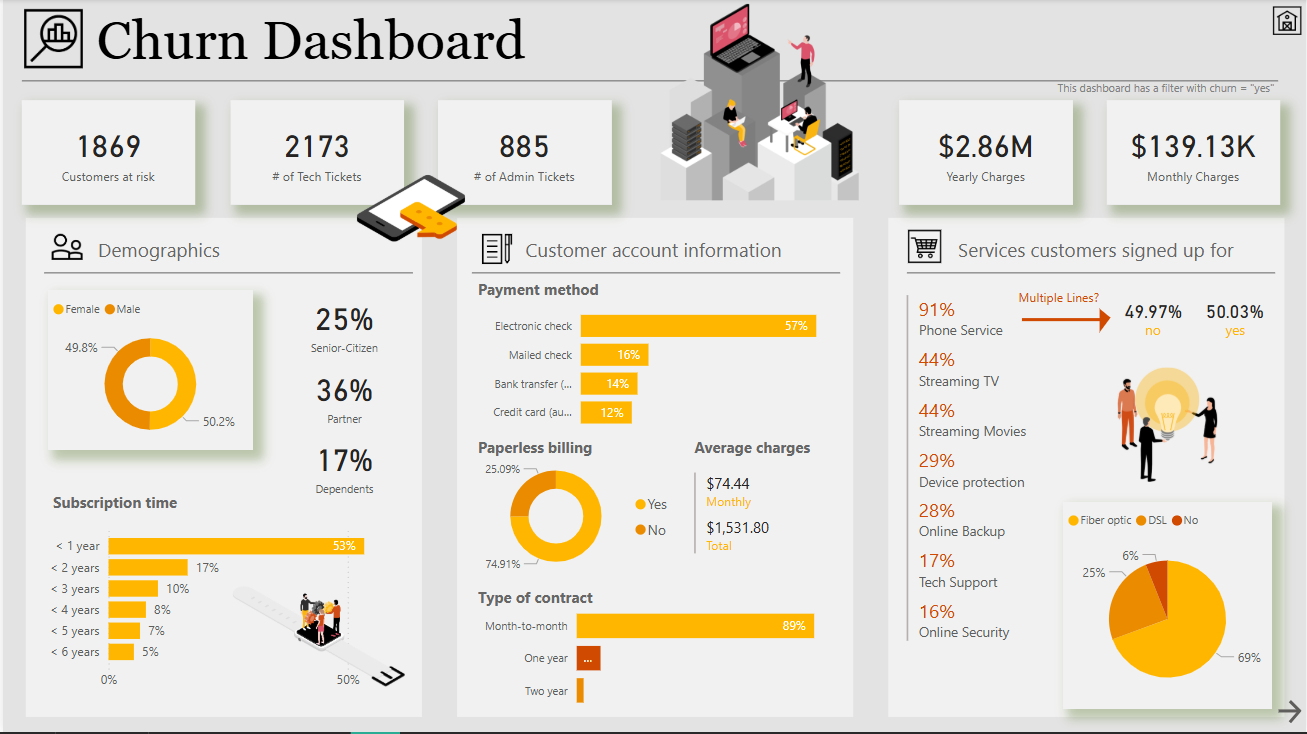

This screenshot's page, from the dashboard's own definition file:
{"tool":"powerbi","page":{"name":"Churn","canvas":[1280,720],"ordinal":1},"visuals":[{"type":"textbox","box":[87.7,4.9,1173.8,75],"z":0},{"type":"basicShape","box":[8.7,60.7,1253,40.5],"z":1000},{"type":"basicShape","box":[18.3,210,396.8,499.9],"z":2000},{"type":"card","fields":{"Values":["CountNonNull(churn.customerID)"]},"box":[18.5,99.4,170,102.3],"z":3000},{"type":"basicShape","box":[441.6,210,396.8,499.9],"z":4000},{"type":"basicShape","box":[864.9,210,396.8,499.9],"z":5000},{"type":"textbox","box":[508.5,228.6,314.9,35.6],"z":6000},{"type":"basicShape","box":[450.7,248.9,381.4,39.5],"z":7000},{"type":"image","box":[461.3,226.3,47.2,39.5],"z":8000},{"type":"textbox","box":[932.7,228.6,314.9,35.6],"z":9000},{"type":"basicShape","box":[877.4,248.9,381.4,39.5],"z":10000},{"type":"textbox","box":[88,228.6,314.9,35.6],"z":11000},{"type":"basicShape","box":[30.2,248.9,381.4,39.5],"z":12000},{"type":"image","box":[883.2,220.6,42.4,43.3],"z":13000},{"type":"image","box":[43.3,220.6,40.5,44.3],"z":14000},{"type":"donutChart","fields":{"Category":["churn.gender"],"Y":["CountNonNull(churn.gender)"]},"box":[43.8,286,201.3,156.6],"z":15000},{"type":"card","fields":{"Values":["churn.SeniorCitizen in %"]},"box":[271.4,268.7,128.1,100.2],"z":16000},{"type":"card","fields":{"Values":["churn.Partner in %"]},"box":[271.4,338.1,128.4,100.2],"z":17000},{"type":"card","fields":{"Values":["churn.Dependents in %"]},"box":[271.4,407.5,128.4,100.2],"z":18000},{"type":"clusteredBarChart","fields":{"Category":["churn.Contract"],"Y":["CountNonNull(churn.Contract)"]},"box":[461.3,577.9,370.8,131.9],"z":19000},{"type":"clusteredBarChart","fields":{"Y":["CountNonNull(churn.PaymentMethod)"],"Category":["churn.PaymentMethod"]},"box":[461.3,286,370.8,148.3],"z":20000},{"type":"textbox","box":[461.3,269.7,314.9,35.6],"z":21000},{"type":"textbox","box":[461.3,424.7,204.2,35.6],"z":22000},{"type":"donutChart","fields":{"Category":["churn.PaperlessBilling"],"Y":["CountNonNull(churn.PaperlessBilling)"]},"box":[461.3,438.2,204.2,139.7],"z":23000},{"type":"multiRowCard","fields":{"Values":["Sum(churn.MonthlyCharges)","Sum(churn.TotalCharges)"]},"box":[674.2,460.4,149.3,95.3],"z":24000},{"type":"textbox","box":[461.3,572.1,314.9,35.6],"z":25000},{"type":"pieChart","fields":{"Category":["churn.InternetService"],"Y":["Divide(CountNonNull(churn.InternetService), ScopedEval(CountNonNull(churn.InternetService), []))"]},"box":[1040.4,492.9,205.5,203.6],"z":26000},{"type":"card","fields":{"Values":["churn.Multiple Lines in %"]},"box":[1172.8,276.4,72.2,62.6],"z":27000},{"type":"card","fields":{"Values":["churn.Multiple lines no in %"]},"box":[1093.1,276.4,72.2,61.6],"z":28000},{"type":"textbox","box":[971.7,278.2,129.4,27.2],"z":29000},{"type":"textbox","box":[1092.2,311,73.2,35.6],"z":30000},{"type":"textbox","box":[1172.8,311,73.2,35.6],"z":31000},{"type":"textbox","box":[674.2,424.7,148.3,35.6],"z":32000},{"type":"multiRowCard","fields":{"Values":["churn.Phone Service in %","churn.Streaming TV in %","churn.Streaming Movies in %","churn.Device protection in %","churn.Online Bacup in %","churn.Tech Support in %","churn.Online Sec. in %"]},"box":[882.2,286,165.3,414.3],"z":33000},{"type":"basicShape","box":[990.2,300.5,97.3,28.2],"z":34000},{"type":"basicShape","box":[1063.1,296.7,37.9,32.1],"z":35000},{"type":"clusteredBarChart","fields":{"Y":["CountNonNull(churn.Churn)"],"Category":["churn.Loyalty"]},"box":[37,507.7,365.7,179],"z":36000},{"type":"textbox","box":[43.8,478.5,314.2,35],"z":37000},{"type":"image","box":[1048.2,356.5,190.9,121.8],"z":38000},{"type":"actionButton","box":[1246.1,680.1,31.6,39.5],"z":39000},{"type":"image","box":[16.6,4.9,67.2,68.2],"z":40000},{"type":"card","fields":{"Values":["CountNonNull(churn.MonthlyCharges)"]},"box":[1083.9,99.4,170,102.3],"z":41000},{"type":"image","box":[634.9,0,216.9,202.2],"z":42000},{"type":"image","box":[221.1,556.2,178.3,139.3],"z":43000},{"type":"card","fields":{"Values":["CountNonNull(churn.numTechTickets)"]},"box":[222.8,99.4,170,102.3],"z":44000},{"type":"card","fields":{"Values":["CountNonNull(churn.numAdminTickets)"]},"box":[427.1,99.4,170,102.3],"z":45000},{"type":"card","fields":{"Values":["CountNonNull(churn.TotalCharges)"]},"box":[879.7,99.4,170,102.3],"z":46000},{"type":"textbox","box":[897,72.3,355.9,30.5],"z":47000},{"type":"image","box":[341.9,151,115.9,108.1],"z":48000},{"type":"image","box":[1242,0,38,42.9],"z":49000}]}

Visuals, with their boxes in screenshot pixels (x1, y1, x2, y2), scaled from the page's 1280x720 canvas onto the 1307x734 screenshot:
textbox: bbox(90, 5, 1288, 81)
basicShape: bbox(9, 62, 1288, 103)
basicShape: bbox(19, 214, 424, 724)
card - CountNonNull(churn.customerID): bbox(19, 101, 192, 206)
basicShape: bbox(451, 214, 856, 724)
basicShape: bbox(883, 214, 1288, 724)
textbox: bbox(519, 233, 841, 269)
basicShape: bbox(460, 254, 850, 294)
image: bbox(471, 231, 519, 271)
textbox: bbox(952, 233, 1274, 269)
basicShape: bbox(896, 254, 1285, 294)
textbox: bbox(90, 233, 411, 269)
basicShape: bbox(31, 254, 420, 294)
image: bbox(902, 225, 945, 269)
image: bbox(44, 225, 86, 270)
donutChart - churn.gender x CountNonNull(churn.gender): bbox(45, 292, 250, 451)
card - churn.SeniorCitizen in %: bbox(277, 274, 408, 376)
card - churn.Partner in %: bbox(277, 345, 408, 447)
card - churn.Dependents in %: bbox(277, 415, 408, 518)
clusteredBarChart - churn.Contract x CountNonNull(churn.Contract): bbox(471, 589, 850, 724)
clusteredBarChart - CountNonNull(churn.PaymentMethod) x churn.PaymentMethod: bbox(471, 292, 850, 443)
textbox: bbox(471, 275, 793, 311)
textbox: bbox(471, 433, 680, 469)
donutChart - churn.PaperlessBilling x CountNonNull(churn.PaperlessBilling): bbox(471, 447, 680, 589)
multiRowCard - Sum(churn.MonthlyCharges) x Sum(churn.TotalCharges): bbox(688, 469, 841, 567)
textbox: bbox(471, 583, 793, 620)
pieChart - churn.InternetService x Divide(CountNonNull(churn.InternetService), ScopedEval(CountNonNull(churn.InternetService), [])): bbox(1062, 502, 1272, 710)
card - churn.Multiple Lines in %: bbox(1198, 282, 1271, 346)
card - churn.Multiple lines no in %: bbox(1116, 282, 1190, 345)
textbox: bbox(992, 284, 1124, 311)
textbox: bbox(1115, 317, 1190, 353)
textbox: bbox(1198, 317, 1272, 353)
textbox: bbox(688, 433, 840, 469)
multiRowCard - churn.Phone Service in % x churn.Streaming TV in %: bbox(901, 292, 1070, 714)
basicShape: bbox(1011, 306, 1110, 335)
basicShape: bbox(1086, 302, 1124, 335)
clusteredBarChart - CountNonNull(churn.Churn) x churn.Loyalty: bbox(38, 518, 411, 700)
textbox: bbox(45, 488, 366, 523)
image: bbox(1070, 363, 1265, 488)
actionButton: bbox(1272, 693, 1305, 733)
image: bbox(17, 5, 86, 75)
card - CountNonNull(churn.MonthlyCharges): bbox(1107, 101, 1280, 206)
image: bbox(648, 0, 870, 206)
image: bbox(226, 567, 408, 709)
card - CountNonNull(churn.numTechTickets): bbox(227, 101, 401, 206)
card - CountNonNull(churn.numAdminTickets): bbox(436, 101, 610, 206)
card - CountNonNull(churn.TotalCharges): bbox(898, 101, 1072, 206)
textbox: bbox(916, 74, 1279, 105)
image: bbox(349, 154, 467, 264)
image: bbox(1268, 0, 1306, 44)
